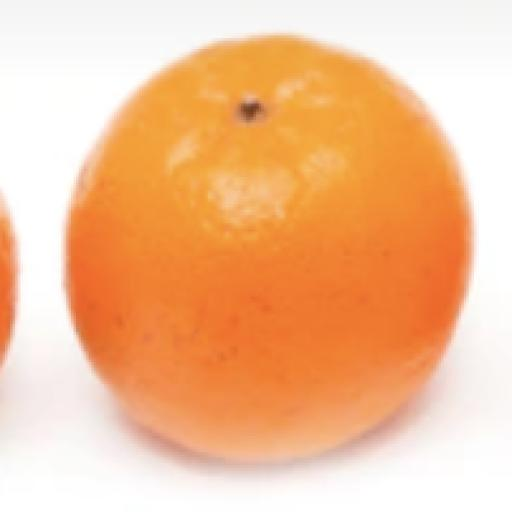orange: (66, 36, 471, 460), (0, 197, 17, 362)
